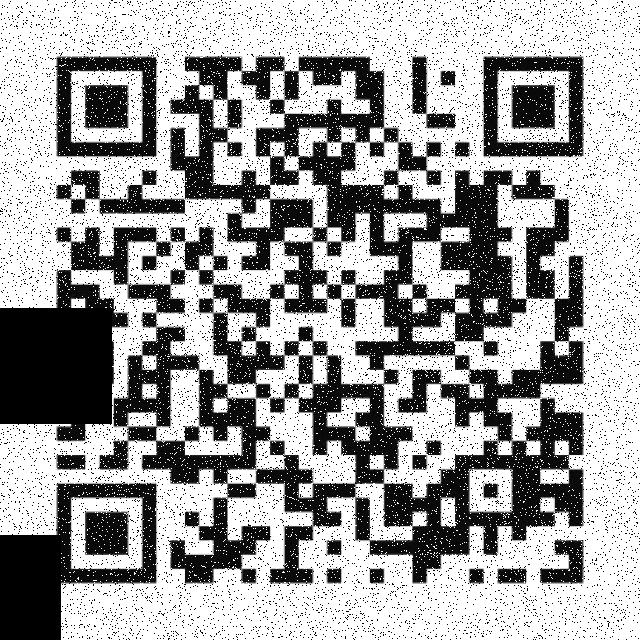QR_CODE: (47, 47, 595, 598)
